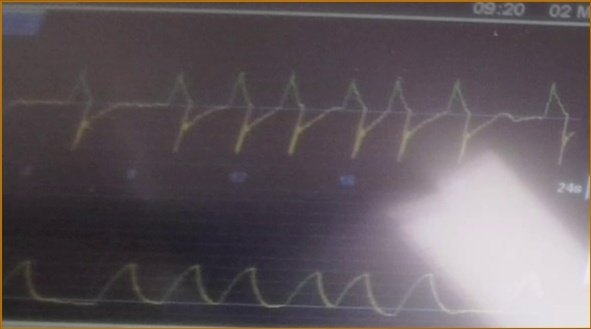Ineffective_effort Flow: (5, 55, 577, 169)
Ineffective_effort Volume: (4, 240, 540, 320)
